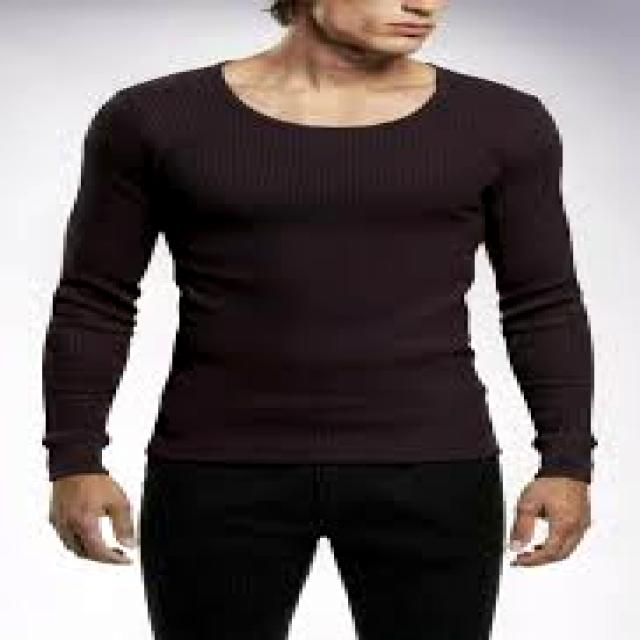face: (306, 0, 446, 55)
lower-wear: (141, 457, 506, 639)
top-wear: (43, 61, 597, 482)
